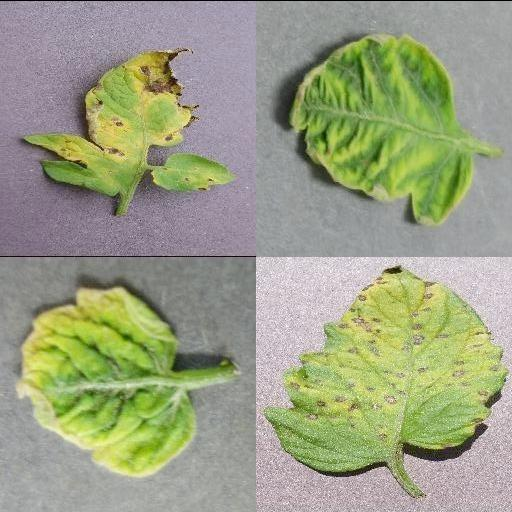Septoria: (267, 265, 508, 471), (19, 46, 201, 196), (151, 153, 239, 191)
Yellow Leaf Curl Virus: (289, 34, 481, 224), (15, 285, 197, 477)
